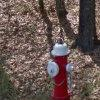Hydrant: (32, 29, 85, 100)
